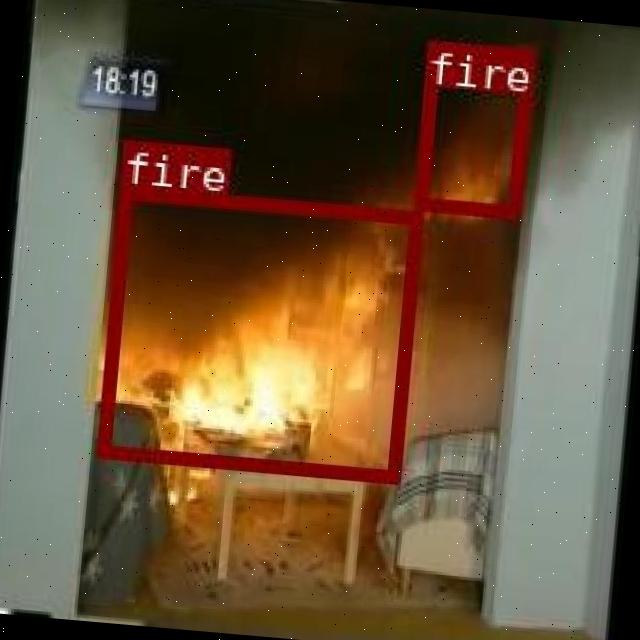fire: (96, 184, 420, 480), (412, 38, 532, 217)
